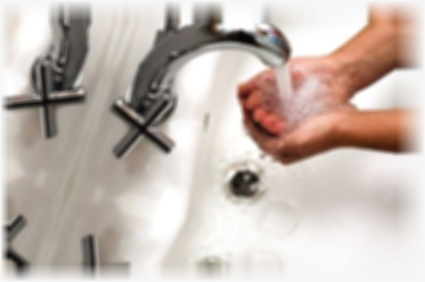washing hand: (105, 0, 404, 240)
